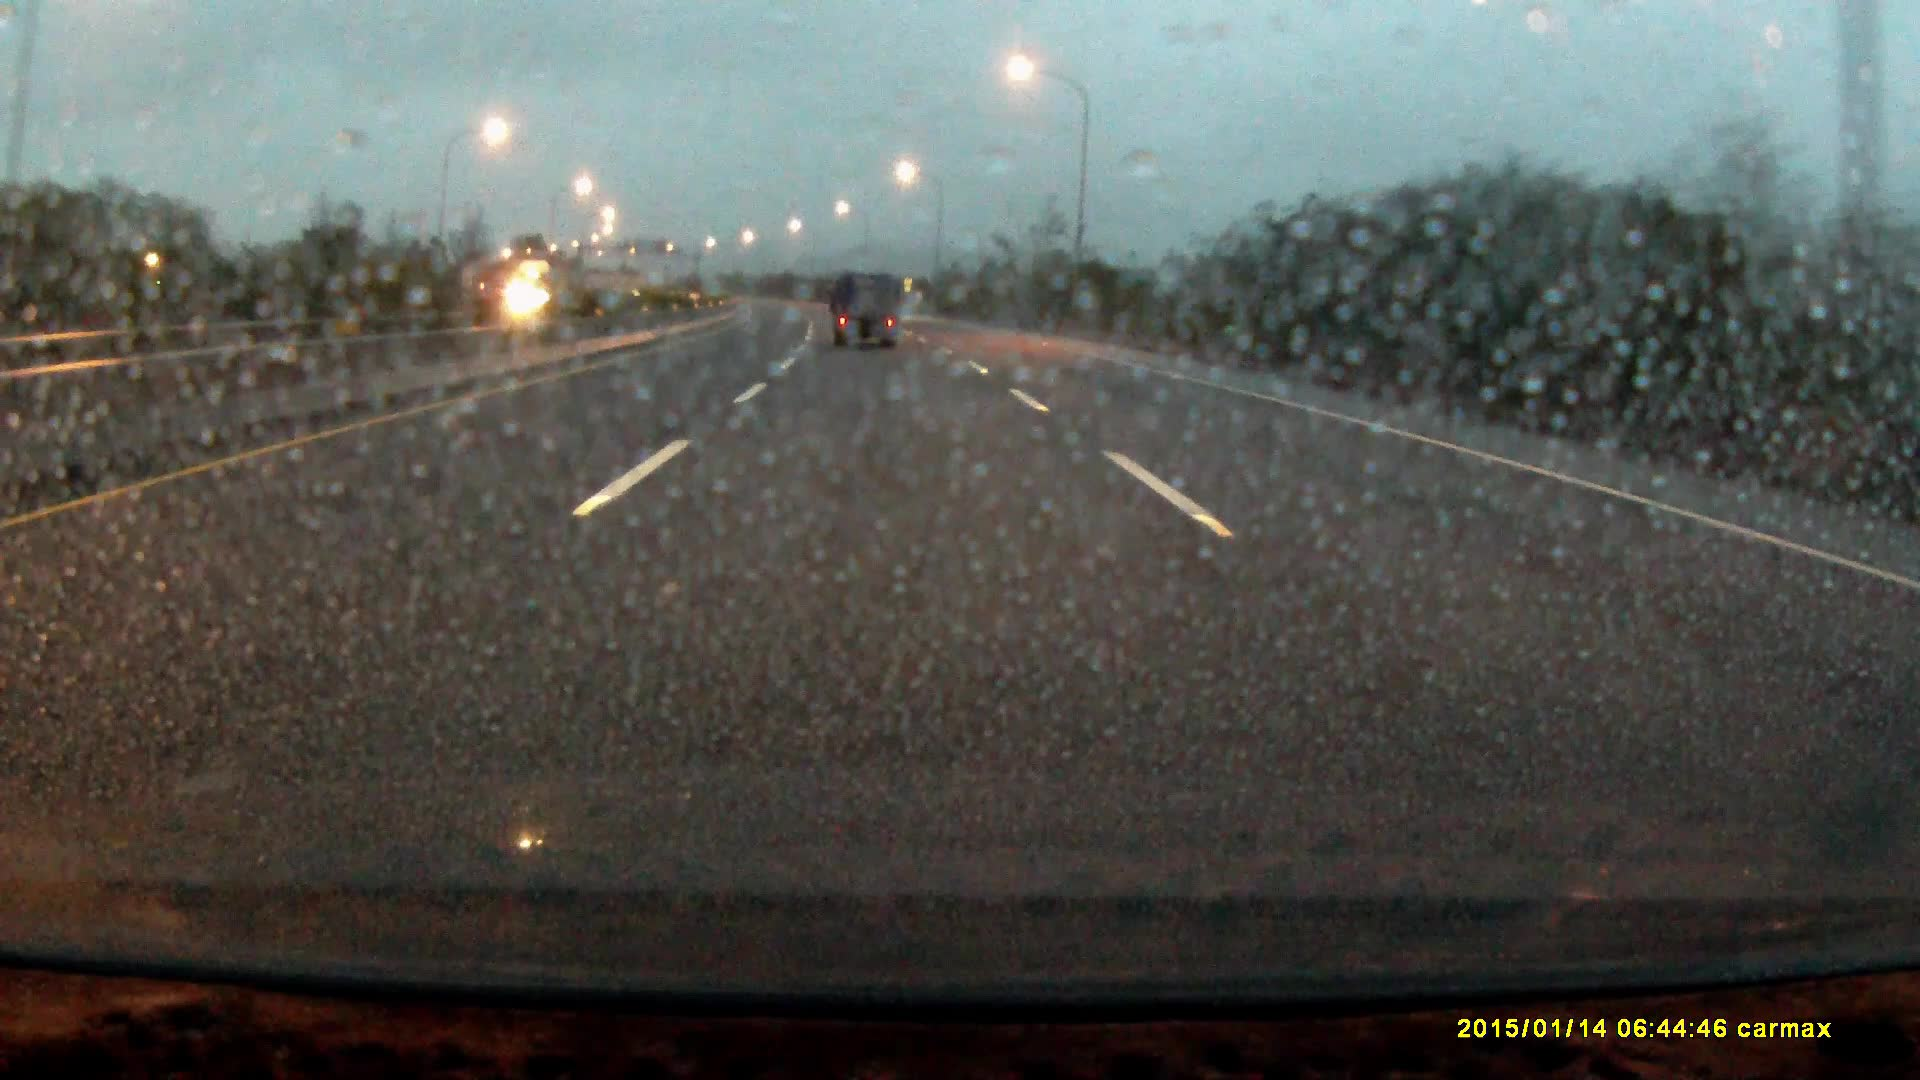vehicle: (506, 256, 593, 326), (833, 272, 903, 351)
